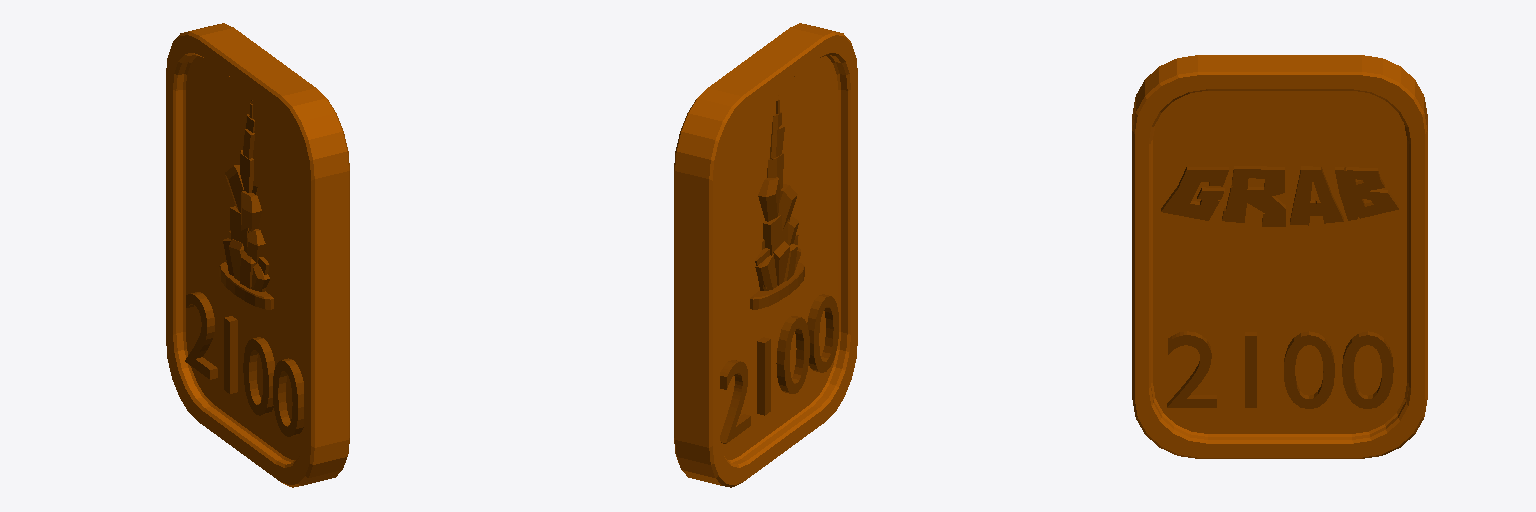
Rendered from currency_2100.obj.
3 renders of one model, left to right at view 1: azimuth 30°, elevation 25°; view 2: azimuth 150°, elevation 25°; view 3: azimuth 270°, elevation 25°, orthographic.
Visible parts, largest first — view 1: 0, 1; view 2: 0, 1; view 3: 0, 1.
Boxes of the visible parts, box(x1,y1,x2,y2) form: 0: box(166, 23, 349, 487); 1: box(185, 100, 303, 436); 0: box(674, 23, 857, 487); 1: box(720, 95, 838, 443); 0: box(1132, 55, 1427, 458); 1: box(1161, 166, 1398, 408).
Size of the model in its own units: 0.0168 by 0.1447 by 0.1.